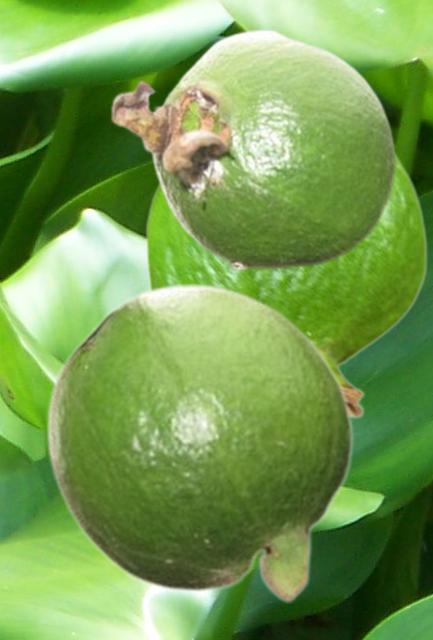guava: (44, 281, 353, 604), (144, 149, 427, 422), (109, 27, 397, 270)
